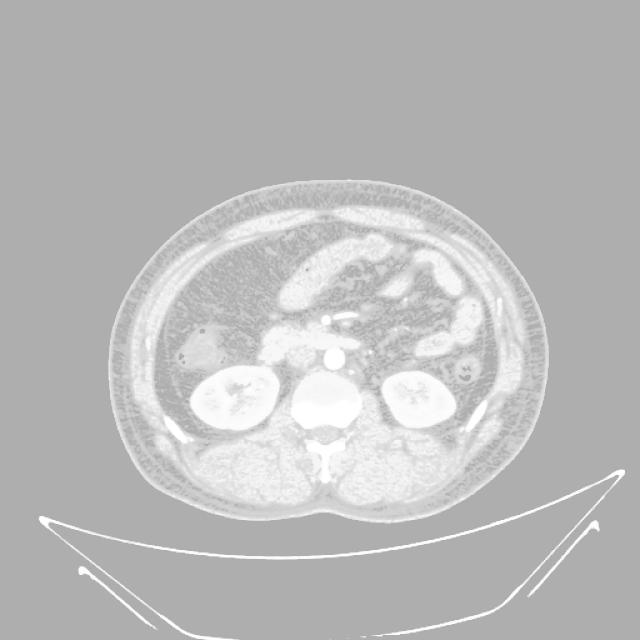NORMAL: (77, 168, 571, 540)
